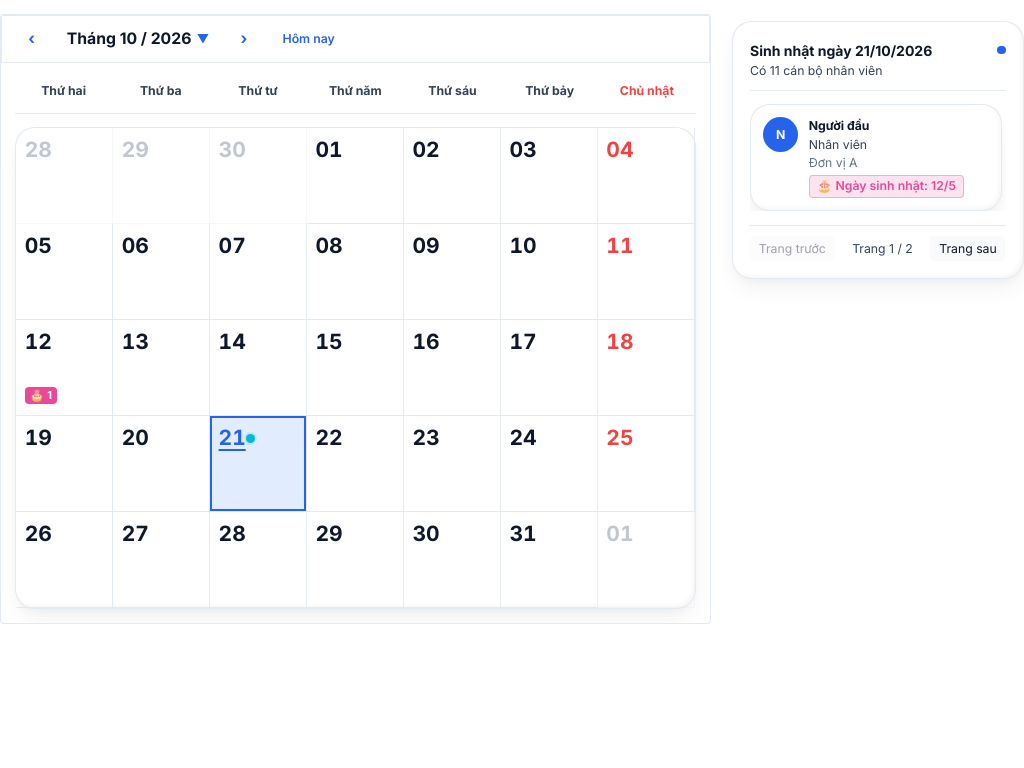
BirthdayPage › loads the next page from the day endpoint
Expected: the text "Người đầu" is shown, [809,118,870,133]
What coordinates should you click on to do the following:
click the button "Trang sau"
I would click on:
 (968, 249)
Its box is [930,236,1006,261].
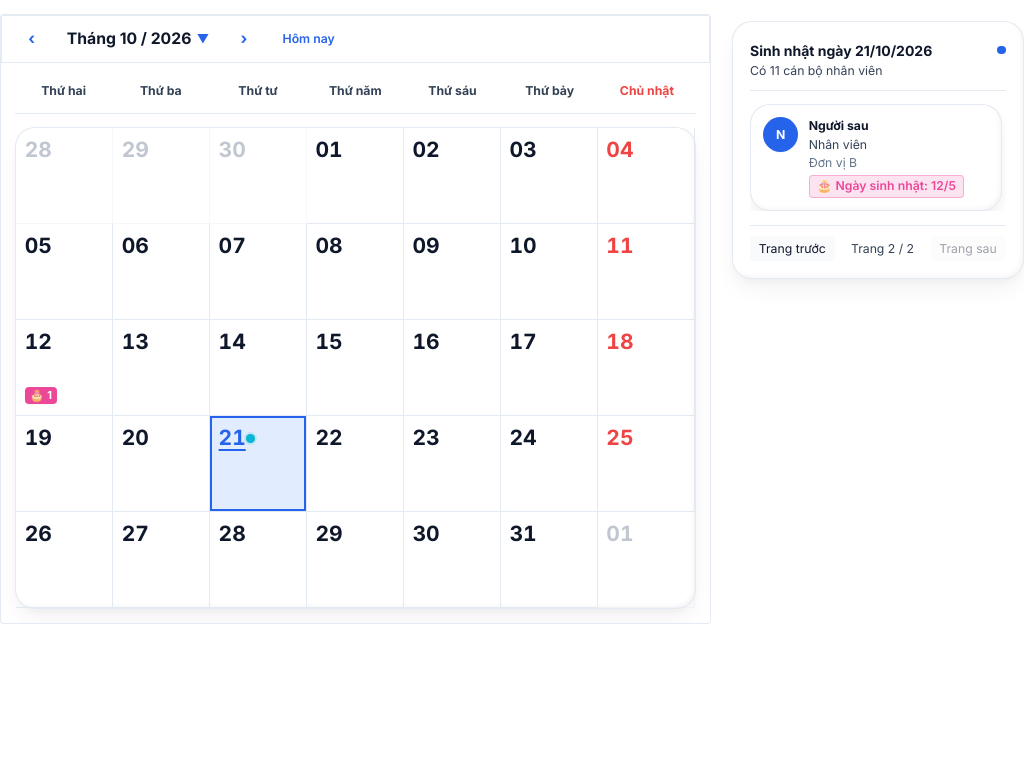
Now the text "Người sau" is shown, box [809,118,869,133]
